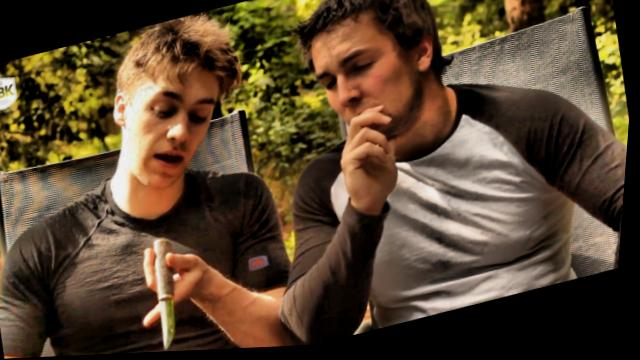knife: (117, 224, 219, 355)
